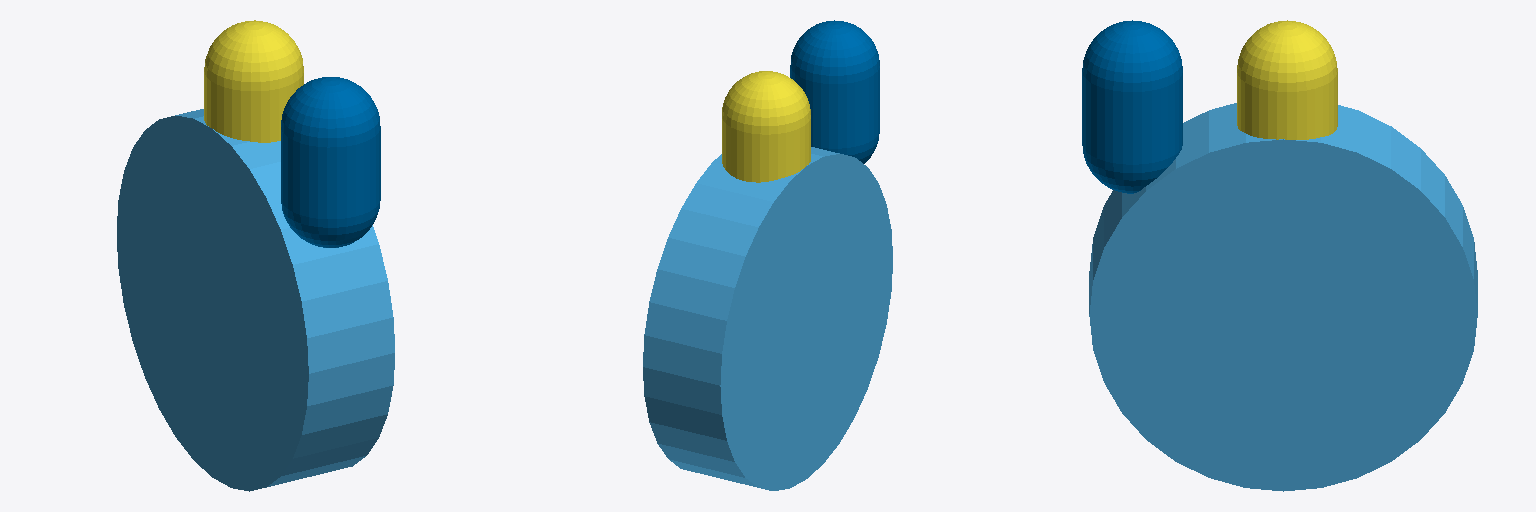
URDF robot description (DexterousHand):
<?xml version="1.0"?>
<robot name="DexterousHand">


    <link name="world"/>
    <joint name="world_to_palm" type="fixed">
        <parent link="world"/>
        <child link="palm"/>
        <origin xyz="0 0 0" rpy="0 0 0"/>
    </joint>
    <link name="palm">
        <inertial>
            <origin xyz="0 0 0.057" rpy="0 0 0"/>
            <mass value="0.30212892864"/>
            <inertia ixx="0.00049080844457568" ixy="0.0" ixz="0.0" iyy="0.00026746366246427523" iyz="0.0" izz="0.00026746366246427523"/>
        </inertial>
        <visual>
            <origin xyz="0 0 0.057" rpy="1.5708 0 1.5708"/>
            <geometry>
                <cylinder radius="0.057" length="0.0296"/>
            </geometry>
            <material name="default"/>
        </visual>
        <collision>
            <origin xyz="0 0 0.057" rpy="1.5708 0 1.5708"/>
            <geometry>
                <cylinder radius="0.057" length="0.0296"/>
            </geometry>
        </collision>
    </link>

    
    <joint name="thumb_joint1" type="revolute">
        <parent link="palm"/>
        <child link="thumb_base"/>
        <origin xyz="0.0 0.0 0.0" rpy="0.0 0.0 0.0"/>
        <axis xyz="1 0 0"/>
        <limit lower="0.0" upper="0.0" effort="1.0" velocity="1.0"/>
    </joint>

    <link name="thumb_base"></link>

    <joint name="thumb_joint2" type="revolute">
        <parent link="thumb_base"/>
        <child link="thumb_proximal"/>
        <origin xyz="0.0 0.0 0.0" rpy="0.0 0.0 0.0"/>
        <axis xyz="0 1 0"/>
        <limit lower="0.0" upper="0.0" effort="1.0" velocity="1.0"/>
    </joint>

    <link name="thumb_proximal">
    </link>

    <joint name="thumb_joint3" type="revolute">
        <parent link="thumb_proximal"/>
        <child link="thumb_knuckle"/>
        <origin xyz="0.0 0.0 0.0" rpy="0.0 0.0 0.0"/>
        <axis xyz="1 0 0"/>
        <limit lower="0.0" upper="0.0" effort="1.0" velocity="1.0"/>
    </joint>

    <link name="thumb_knuckle"></link>

    <joint name="thumb_joint4" type="revolute">
        <parent link="thumb_knuckle"/>
        <child link="thumb_middle"/>
        <origin xyz="0 0 0" rpy="0 0 0"/> 
        <axis xyz="0 1 0"/>
        <limit lower="0.0" upper="0.0" effort="1.0" velocity="1.0"/>
    </joint>

    <link name="thumb_middle">
    </link>

    <joint name="thumb_joint5" type="revolute">
        <parent link="thumb_middle"/>
        <child link="thumb_distal"/>
        <origin xyz="0 0 0" rpy="0 0 0"/> 
        <axis xyz="0 1 0"/>
        <limit lower="0.0" upper="0.0" effort="1.0" velocity="1.0"/>
    </joint>

    <link name="thumb_distal">
    </link>

    
    <joint name="index_joint1" type="revolute">
        <parent link="palm"/>
        <child link="index_proximal"/>
        <origin xyz="0.0 0.0 0.0" rpy="0.0 0.0 0.0"/>
        <axis xyz="1 0 0"/>
        <limit lower="0.0" upper="0.0" effort="1.0" velocity="1.0"/>
    </joint>

    <link name="index_proximal">
    </link>

    <joint name="index_joint2" type="revolute">
        <parent link="index_proximal"/>
        <child link="index_dummy"/>
        <origin xyz="0.0 0.0 0.0" rpy="0.0 0.0 0.0"/>
        <axis xyz="0 1 0"/>
        <limit lower="0.0" upper="0.0" effort="1.0" velocity="1.0"/>
    </joint>

    <link name="index_dummy"></link>

    <joint name="index_joint3" type="revolute">
        <parent link="index_dummy"/>
        <child link="index_middle"/>
        <origin xyz="0 0 0" rpy="0 0 0"/>
        <axis xyz="0 1 0"/>
        <limit lower="0.0" upper="0.0" effort="1.0" velocity="1.0"/>
    </joint>

    <link name="index_middle">
    </link>

    <joint name="index_joint4" type="revolute">
        <parent link="index_middle"/>
        <child link="index_distal"/>
        <origin xyz="0 0 0" rpy="0 0 0"/> 
        <axis xyz="0 1 0"/>
        <limit lower="0.0" upper="0.0" effort="1.0" velocity="1.0"/>
    </joint>

    <link name="index_distal">
    </link>

    
    <joint name="middle_joint1" type="revolute">
        <parent link="palm"/>
        <child link="middle_proximal"/>
        <origin xyz="0.0 0.0011 0.091" rpy="0.0 0.0 0.0"/>
        <axis xyz="0 1 0"/>
        <limit lower="-0.314" upper="2.23" effort="1.0" velocity="1.0"/>
    </joint>

    <link name="middle_proximal">
        <inertial>
            <origin xyz="0 0 0.02655" rpy="0 0 0"/>
            <mass value="0.036540024998400006"/>
            <inertia ixx="1.058665009272394e-05" ixy="0.0" ixz="0.0" 
            iyy="1.058665009272394e-05" iyz="0.0" izz="4.001863537824769e-06"/>
        </inertial>
        <visual>
            <origin xyz="0 0 0.02655" rpy="0 0 0"/>
            <geometry>
                <cylinder radius="0.0148" length="0.0235"/>
            </geometry>
            <material name="default"/>
        </visual>
        <visual>
            <origin xyz="0 0 0.0148" rpy="0 0 0"/>
            <geometry>
                <sphere radius="0.0148"/>
            </geometry>
            <material name="default"/>
        </visual>
        <visual>
            <origin xyz="0 0 0.0383" rpy="0 0 0"/>
            <geometry>
                <sphere radius="0.0148"/>
            </geometry>
            <material name="default"/>
        </visual>
        <collision>
            <origin xyz="0 0 0.02655" rpy="0 0 0"/>
            <geometry>
                <cylinder radius="0.0148" length="0.0235"/>
            </geometry>
        </collision>
        <collision>
            <origin xyz="0 0 0.0148" rpy="0 0 0"/>
            <geometry>
                <sphere radius="0.0148"/>
            </geometry>
        </collision>
        <collision>
            <origin xyz="0 0 0.0383" rpy="0 0 0"/>
            <geometry>
                <sphere radius="0.0148"/>
            </geometry>
        </collision>
    </link>

    <joint name="middle_joint2" type="revolute">
        <parent link="middle_proximal"/>
        <child link="middle_dummy"/>
        <origin xyz="0.0 0.0 0.038" rpy="0.0 0.0 0.0"/>
        <axis xyz="0 1 0"/>
        <limit lower="0.0" upper="0.0" effort="1.0" velocity="1.0"/>
    </joint>

    <link name="middle_dummy"></link>

    <joint name="middle_joint3" type="revolute">
        <parent link="middle_dummy"/>
        <child link="middle_middle"/>
        <origin xyz="0 0 0.015100000000000002" rpy="0 0 0"/>
        <axis xyz="0 1 0"/>
        <limit lower="0.0" upper="0.0" effort="1.0" velocity="1.0"/>
    </joint>

    <link name="middle_middle">
    </link>

    <joint name="middle_joint4" type="revolute">
        <parent link="middle_middle"/>
        <child link="middle_distal"/>
        <origin xyz="0 0 0" rpy="0 0 0"/> 
        <axis xyz="0 1 0"/>
        <limit lower="0.0" upper="0.0" effort="1.0" velocity="1.0"/>
    </joint>

    <link name="middle_distal">
    </link>

    
    <joint name="ring_joint1" type="revolute">
        <parent link="palm"/>
        <child link="ring_proximal"/>
        <origin xyz="0.0 0.0 0.0" rpy="0.0 0.0 0.0"/>
        <axis xyz="1 0 0"/>
        <limit lower="0.0" upper="0.0" effort="1.0" velocity="1.0"/>
    </joint>

    <link name="ring_proximal">
    </link>

    <joint name="ring_joint2" type="revolute">
        <parent link="ring_proximal"/>
        <child link="ring_dummy"/>
        <origin xyz="0.0 0.0 0.0" rpy="0.0 0.0 0.0"/>
        <axis xyz="0 1 0"/>
        <limit lower="0.0" upper="0.0" effort="1.0" velocity="1.0"/>
    </joint>

    <link name="ring_dummy"></link>

    <joint name="ring_joint3" type="revolute">
        <parent link="ring_dummy"/>
        <child link="ring_middle"/>
        <origin xyz="0 0 0" rpy="0 0 0"/>
        <axis xyz="0 1 0"/>
        <limit lower="0.0" upper="0.0" effort="1.0" velocity="1.0"/>
    </joint>

    <link name="ring_middle">
    </link>

    <joint name="ring_joint4" type="revolute">
        <parent link="ring_middle"/>
        <child link="ring_distal"/>
        <origin xyz="0 0 0" rpy="0 0 0"/> 
        <axis xyz="0 1 0"/>
        <limit lower="0.0" upper="0.0" effort="1.0" velocity="1.0"/>
    </joint>

    <link name="ring_distal">
    </link>

    
    <joint name="little_joint0" type="revolute">
        <parent link="palm"/>
        <child link="little_base"/>
        <origin xyz="0.0 0.0 0.0" rpy="0.0 0.0 0.0"/>
        <axis xyz="0 1 0"/>
        <limit lower="0.0" upper="0.0" effort="1.0" velocity="1.0"/>
    </joint>

    <link name="little_base"></link>

    <joint name="little_joint1" type="revolute">
        <parent link="little_base"/>
        <child link="little_proximal"/>
        <origin xyz="0.0 -0.0443 0.091" rpy="-0.0 -0.0 -0.0"/>
        <axis xyz="0 1 0"/>
        <limit lower="-0.314" upper="2.23" effort="1.0" velocity="1.0"/>
    </joint>

    <link name="little_proximal">
        <inertial>
            <origin xyz="0 0 0.02655" rpy="0 0 0"/>
            <mass value="0.036540024998400006"/>
            <inertia ixx="1.058665009272394e-05" ixy="0.0" ixz="0.0" 
            iyy="1.058665009272394e-05" iyz="0.0" izz="4.001863537824769e-06"/>
        </inertial>
        <visual>
            <origin xyz="0 0 0.02655" rpy="0 0 0"/>
            <geometry>
                <cylinder radius="0.0148" length="0.0235"/>
            </geometry>
            <material name="default"/>
        </visual>
        <visual>
            <origin xyz="0 0 0.0148" rpy="0 0 0"/>
            <geometry>
                <sphere radius="0.0148"/>
            </geometry>
            <material name="default"/>
        </visual>
        <visual>
            <origin xyz="0 0 0.0383" rpy="0 0 0"/>
            <geometry>
                <sphere radius="0.0148"/>
            </geometry>
            <material name="default"/>
        </visual>
        <collision>
            <origin xyz="0 0 0.02655" rpy="0 0 0"/>
            <geometry>
                <cylinder radius="0.0148" length="0.0235"/>
            </geometry>
        </collision>
        <collision>
            <origin xyz="0 0 0.0148" rpy="0 0 0"/>
            <geometry>
                <sphere radius="0.0148"/>
            </geometry>
        </collision>
        <collision>
            <origin xyz="0 0 0.0383" rpy="0 0 0"/>
            <geometry>
                <sphere radius="0.0148"/>
            </geometry>
        </collision>
    </link>

    <joint name="little_joint2" type="revolute">
        <parent link="little_proximal"/>
        <child link="little_dummy"/>
        <origin xyz="0.0 0.0 0.038" rpy="0.0 0.0 0.0"/>
        <axis xyz="0 1 0"/>
        <limit lower="0.0" upper="0.0" effort="1.0" velocity="1.0"/>
    </joint>

    <link name="little_dummy"></link>

    <joint name="little_joint3" type="revolute">
        <parent link="little_dummy"/>
        <child link="little_middle"/>
        <origin xyz="0 0 0.015100000000000002" rpy="0 0 0"/>
        <axis xyz="0 1 0"/>
        <limit lower="0.0" upper="0.0" effort="1.0" velocity="1.0"/>
    </joint>

    <link name="little_middle">
    </link>

    <joint name="little_joint4" type="revolute">
        <parent link="little_middle"/>
        <child link="little_distal"/>
        <origin xyz="0 0 0" rpy="0 0 0"/>
        <axis xyz="0 1 0"/>
        <limit lower="0.0" upper="0.0" effort="1.0" velocity="1.0"/>
    </joint>

    <link name="little_distal">
    </link>

</robot>

--- What the picture shows (computed from the rendered views, not written in the file) ---
Views: 3 orthographic renders of the robot side by side, from view 1: azimuth 30°, elevation 25°; view 2: azimuth 150°, elevation 25°; view 3: azimuth 270°, elevation 25°.
Robot: DexterousHand — 24 links, 23 joints (22 revolute, 1 fixed); root link world; default pose: every joint at zero.
Links seen in each view (by area): view 1: palm, little_proximal, middle_proximal; view 2: palm, little_proximal, middle_proximal; view 3: palm, little_proximal, middle_proximal.
Link boxes in pixels (box(x1,y1,x2,y2)): palm: box(117, 109, 394, 491); little_proximal: box(281, 77, 380, 247); middle_proximal: box(204, 20, 303, 142); palm: box(643, 147, 892, 490); little_proximal: box(790, 20, 879, 163); middle_proximal: box(722, 71, 810, 182); palm: box(1089, 103, 1477, 491); little_proximal: box(1082, 20, 1182, 193); middle_proximal: box(1237, 20, 1337, 139).
Size in the robot's own frame: 0.0296 by 0.1161 by 0.1441 metres.
Geometry: primitives only (box / cylinder / sphere), no mesh files.
